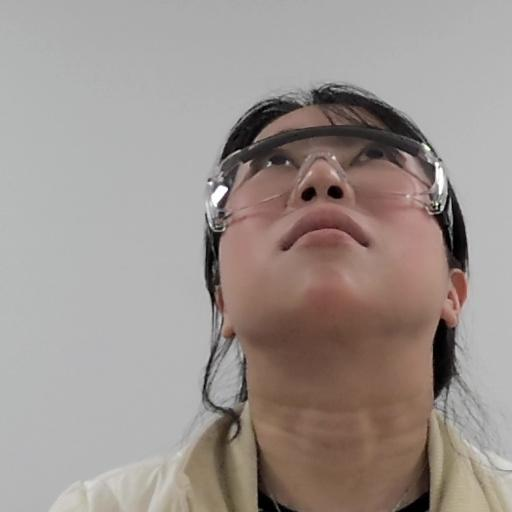glasses: (200, 87, 471, 392)
